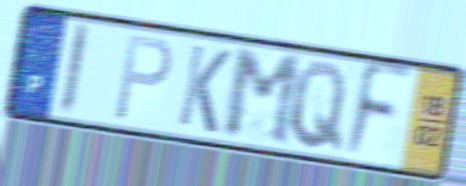F: (341, 58, 415, 164)
I: (56, 20, 94, 120)
K: (175, 40, 234, 137)
M: (221, 48, 304, 150)
P: (110, 32, 176, 124)
Q: (286, 58, 349, 154)
